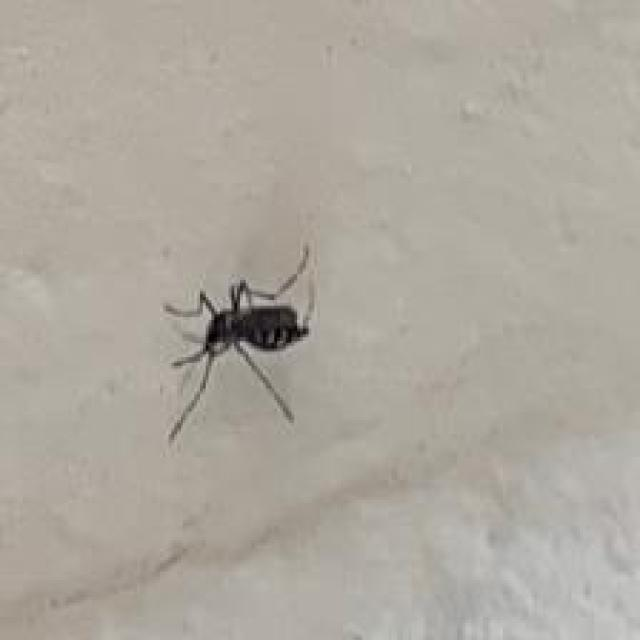Aedes albopictus: (160, 240, 317, 446)
